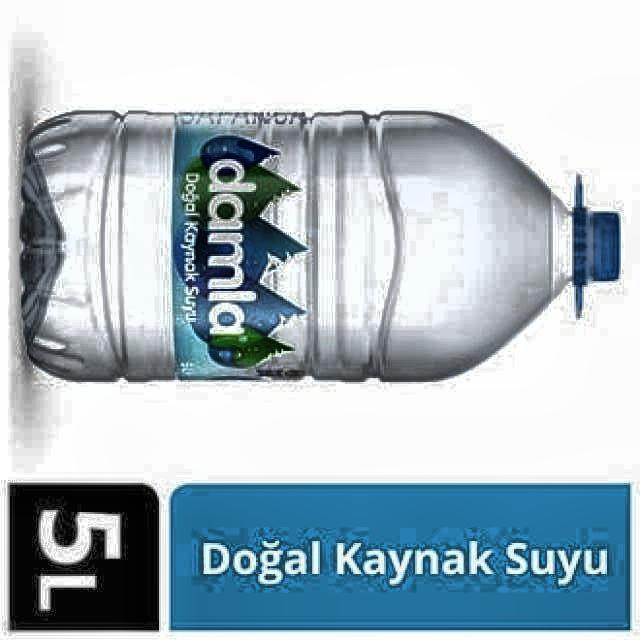plastic: (21, 110, 620, 380)
